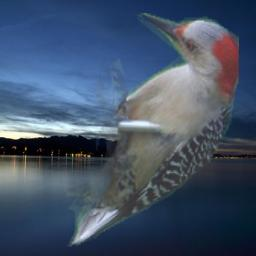Woodpecker: (67, 13, 239, 251)
